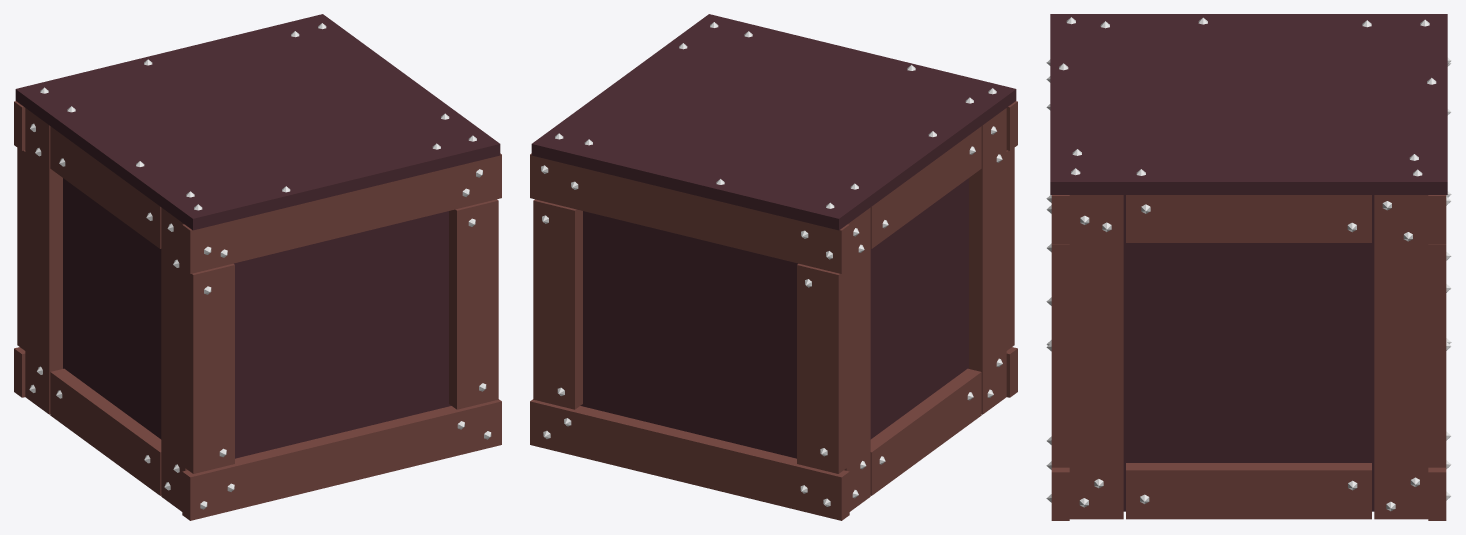
The model's file is Box_closed.fbx.
The picture shows the model from 3 angles, left to right: view 1: azimuth 30°, elevation 25°; view 2: azimuth 150°, elevation 25°; view 3: azimuth 270°, elevation 25°; orthographic projection. The views are drawn at different scales.
Parts seen in each view (by area): view 1: Cube.013, Cone.019; view 2: Cube.013, Cone.019; view 3: Cube.013, Cone.019.
Part boxes in pixels (x1,y1,x2,y2): Cube.013: (14, 14, 501, 520); Cone.019: (29, 23, 491, 509); Cube.013: (530, 14, 1017, 520); Cone.019: (541, 22, 1002, 506); Cube.013: (1050, 14, 1447, 520); Cone.019: (1046, 17, 1451, 511).
Bounding box in the file's own units: 113 × 106 × 113.
